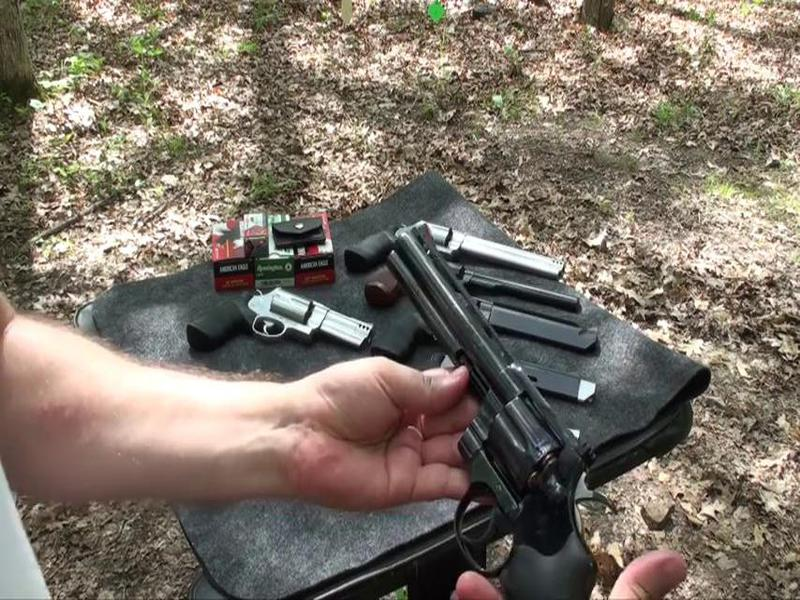Revolver: (387, 224, 601, 600)
